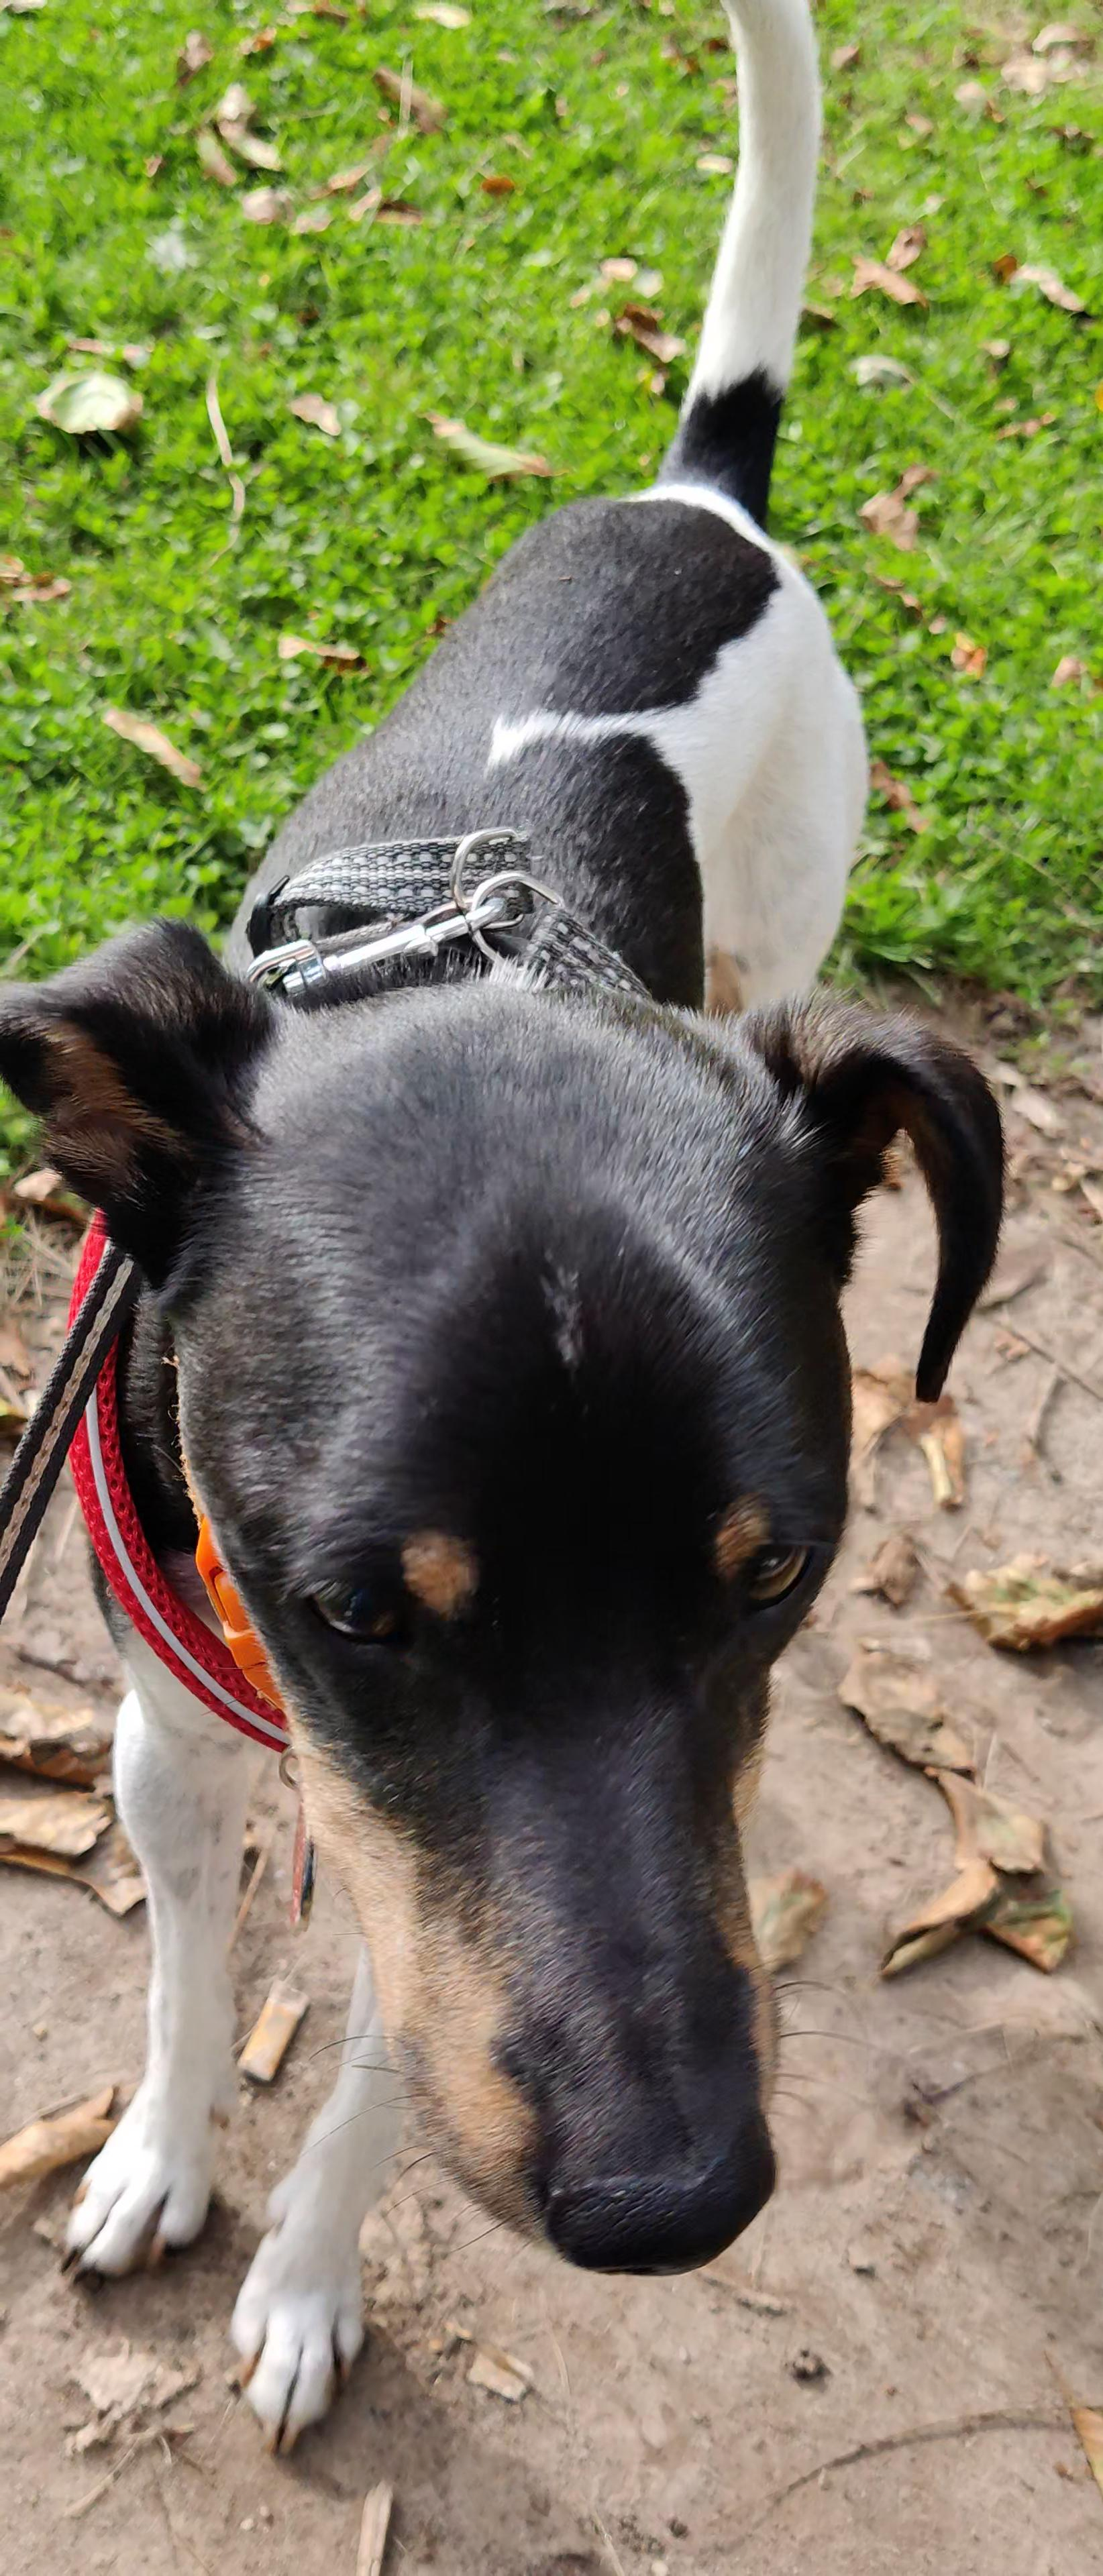Dog: (0, 0, 1026, 2474)
